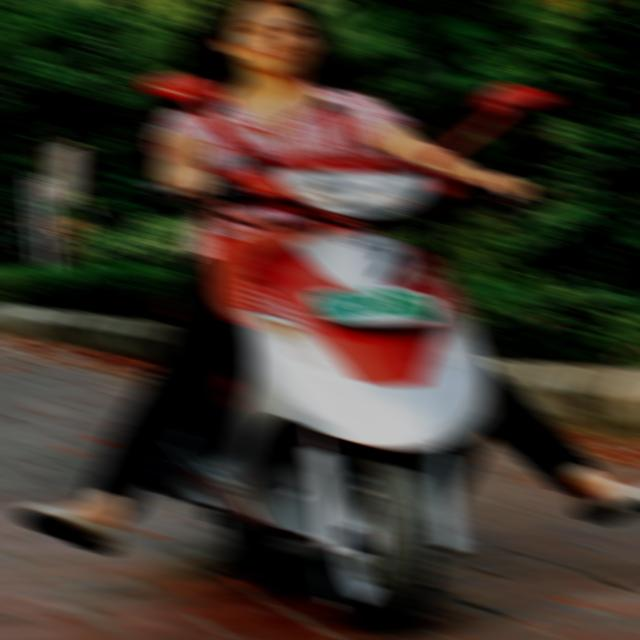Without Helmet: (205, 0, 327, 79)
